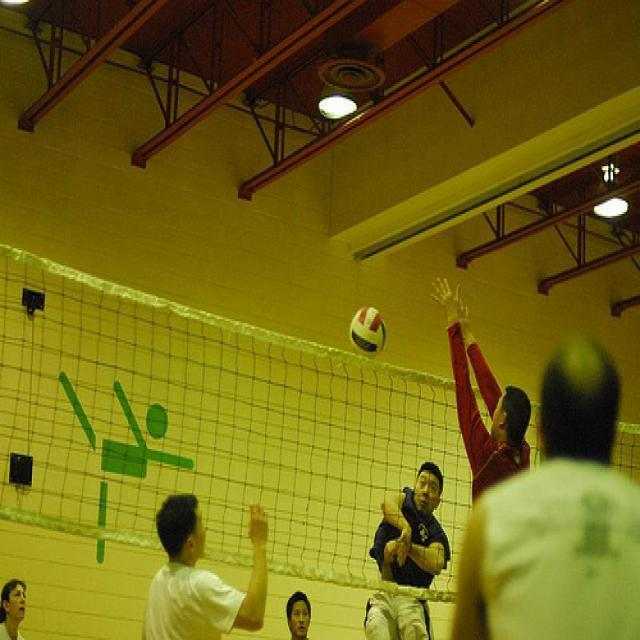volleyball: (350, 306, 386, 358)
